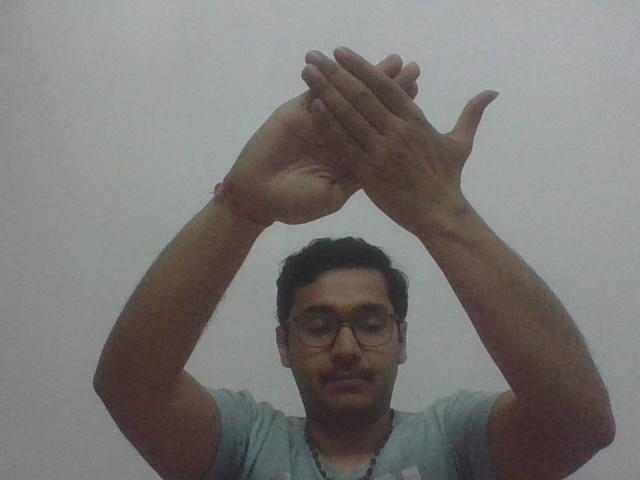H: (205, 43, 505, 227)
